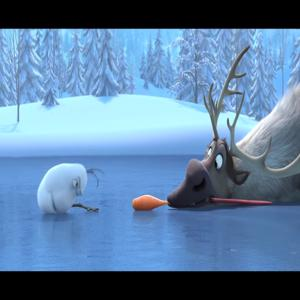carrot: (120, 183, 168, 221)
olaf: (34, 155, 112, 232)
sven: (183, 68, 274, 227)
